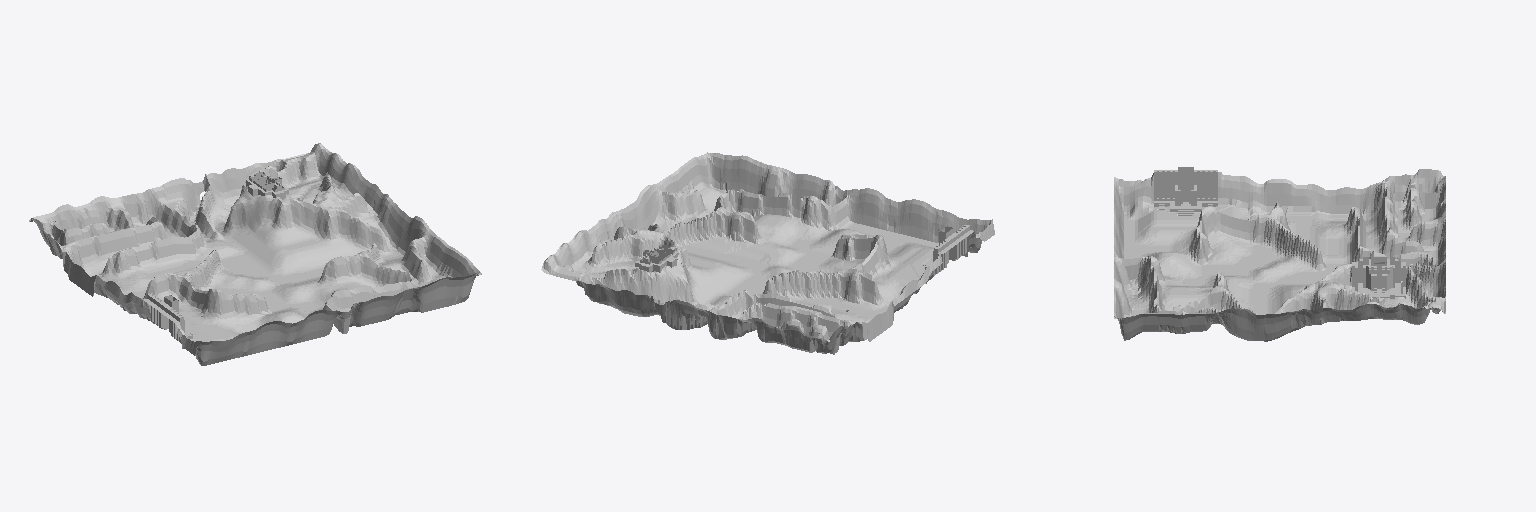
Rendered from ghstpass.obj.
The picture shows the model from 3 angles: view 1: azimuth 30°, elevation 25°; view 2: azimuth 150°, elevation 25°; view 3: azimuth 270°, elevation 25°; orthographic projection.
Parts seen in each view (by area): view 1: GhstPass; view 2: GhstPass; view 3: GhstPass.
Boxes of the visible parts, box(x1,y1,x2,y2) form: GhstPass: box(29, 143, 481, 365); GhstPass: box(541, 152, 994, 354); GhstPass: box(1114, 167, 1445, 341).
Bounding box in the file's own units: 124 × 20 × 124.